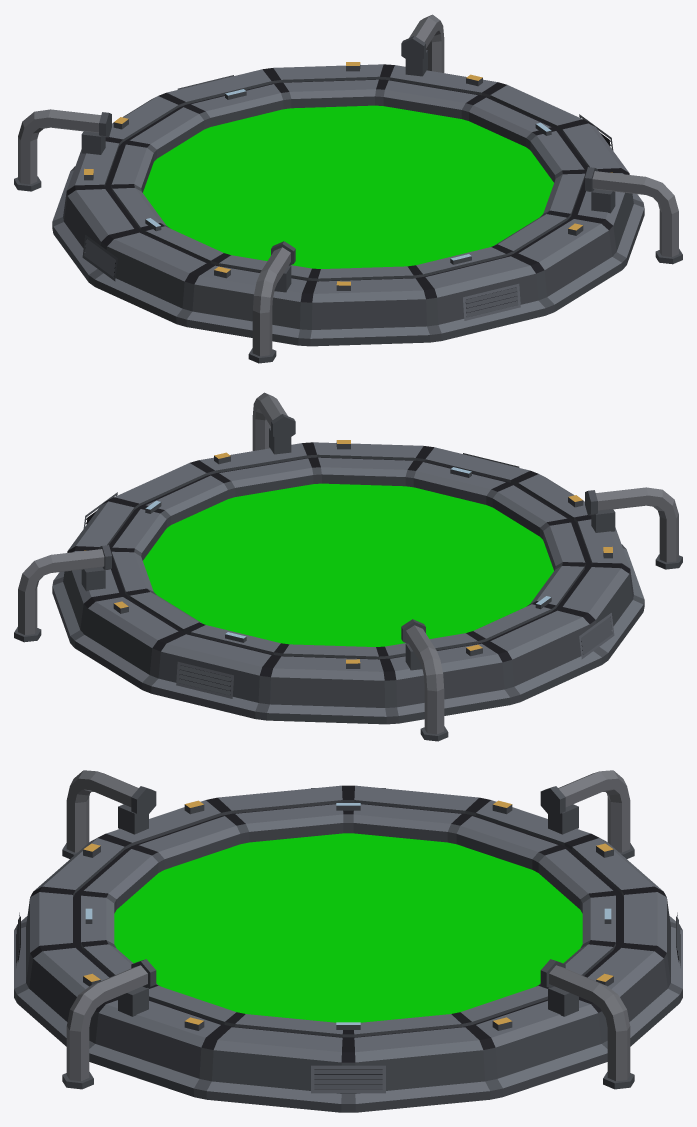
Rendered from containment_ring_v1.glb.
3 renders of one model, top to bottom at view 1: azimuth 30°, elevation 25°; view 2: azimuth 150°, elevation 25°; view 3: azimuth 270°, elevation 25°, orthographic. The views are drawn at different scales.
Visible parts, largest first — view 1: Containment_Ring; view 2: Containment_Ring; view 3: Containment_Ring.
Part boxes in pixels (x1,y1,x2,y2): Containment_Ring: (14, 14, 682, 363); Containment_Ring: (14, 392, 682, 741); Containment_Ring: (14, 770, 682, 1112).
Bounding box in the file's own units: 10 × 1.53 × 9.79.
